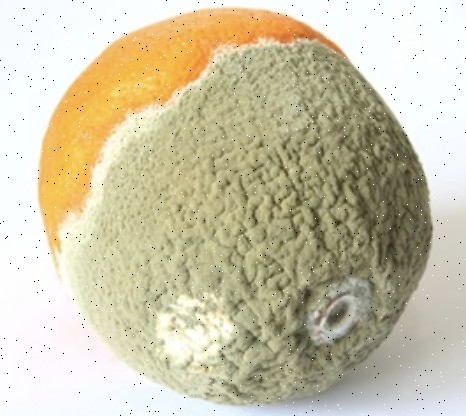rotten_orange: (40, 7, 433, 405)
